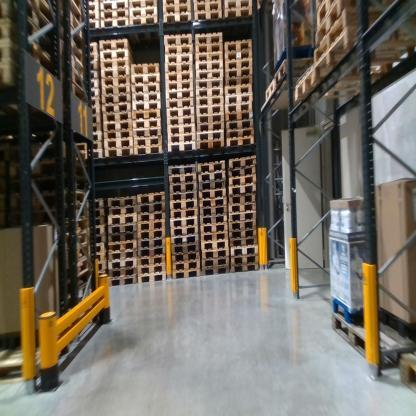pallets: (67, 0, 262, 298), (329, 298, 415, 393), (288, 2, 360, 108)
